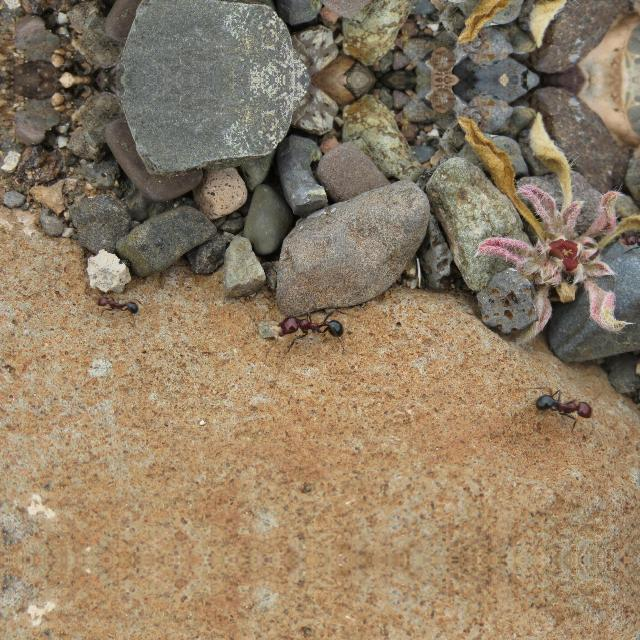Messor: (516, 374, 602, 434), (85, 280, 152, 328), (280, 308, 346, 352)
